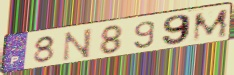8: (98, 24, 125, 56), (32, 34, 56, 64)
9: (161, 13, 195, 47), (132, 20, 156, 50)
M: (191, 8, 230, 44)
N: (60, 27, 94, 63)
